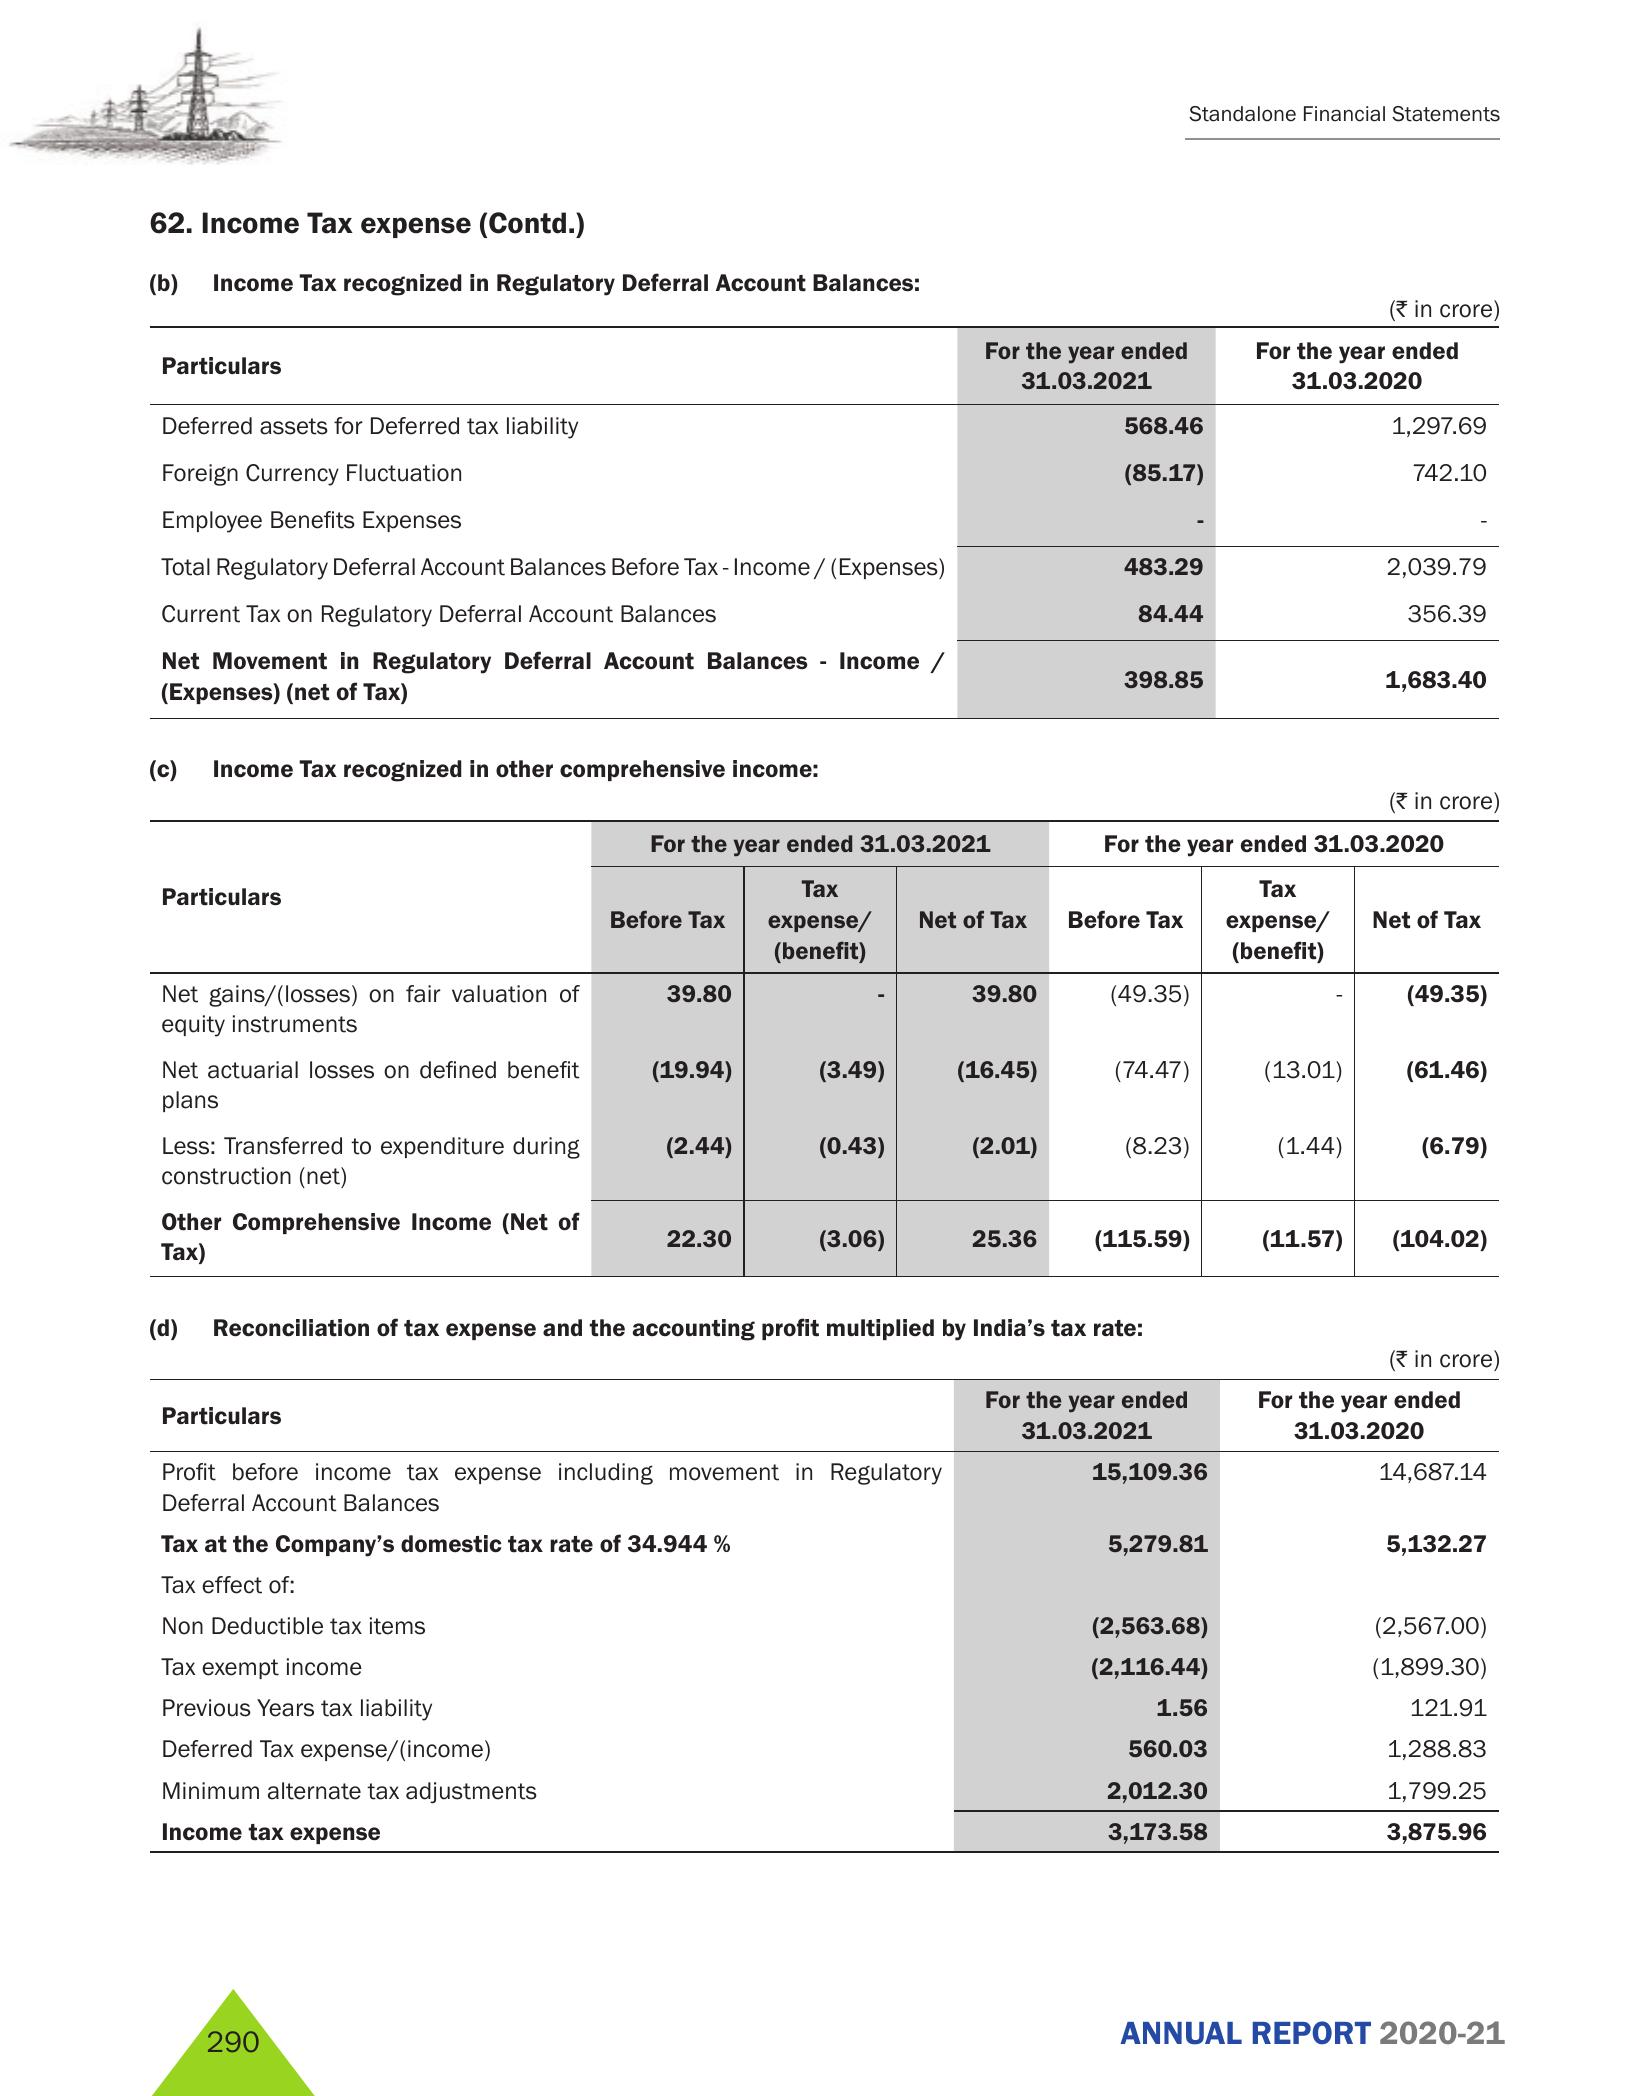Footer: (0, 1950, 1650, 2096)
Header: (0, 0, 1650, 180)
Table: (126, 1347, 1521, 1863), (122, 817, 1507, 1286), (114, 323, 1507, 723)
